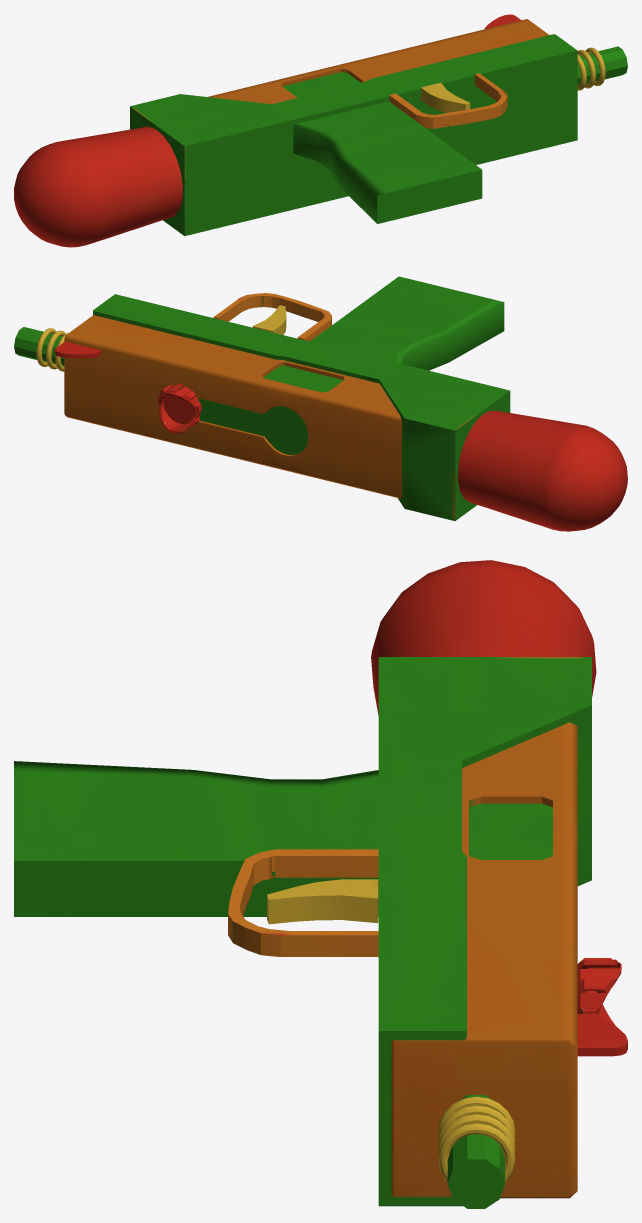
Rendered from pistola_agua.obj.
3 views of the same model, one above another, from view 1: azimuth 30°, elevation 25°; view 2: azimuth 150°, elevation 25°; view 3: azimuth 270°, elevation 25° (orthographic). The views are drawn at different scales.
Parts seen in each view (by area): view 1: pistola_agua:polySurface6; view 2: pistola_agua:polySurface6; view 3: pistola_agua:polySurface6.
Boxes of the visible parts, bbox=[...] form: pistola_agua:polySurface6: bbox=[14, 14, 627, 247]; pistola_agua:polySurface6: bbox=[14, 276, 627, 531]; pistola_agua:polySurface6: bbox=[14, 560, 627, 1208].
Size of the model in its own units: 0.9998 by 0.153 by 0.4565.
Materials: 1 (1 with a texture image).
